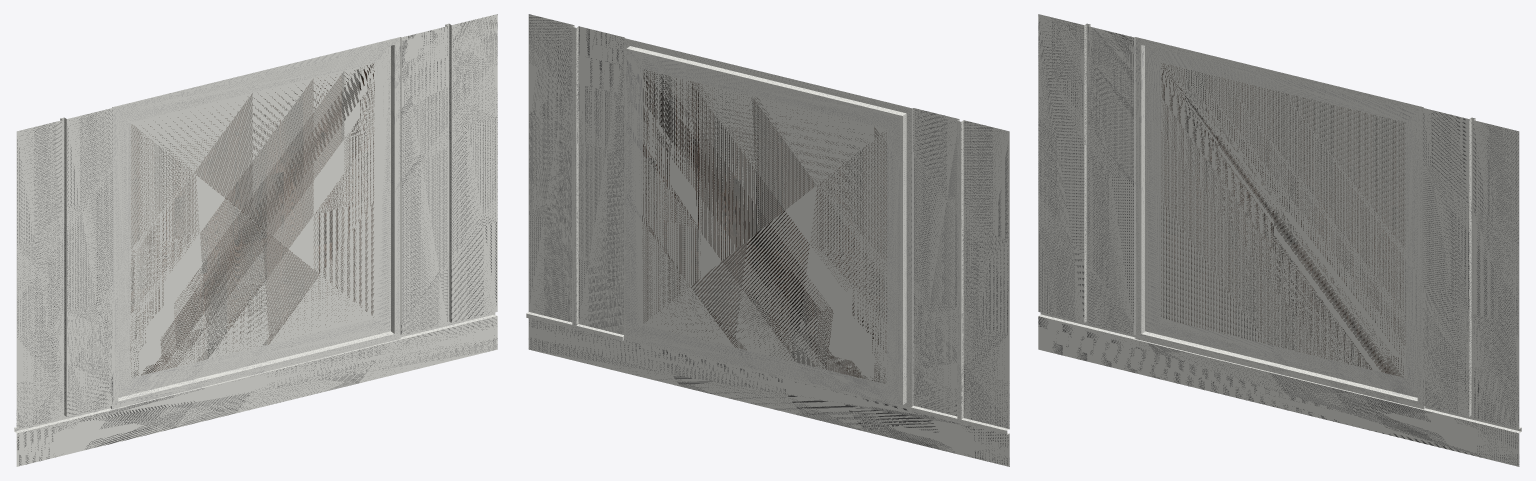
The model's file is wall2.glb.
3 views of the same model, side by side, from view 1: azimuth 30°, elevation 25°; view 2: azimuth 150°, elevation 25°; view 3: azimuth 330°, elevation 25° (orthographic).
Visible parts, largest first — view 1: SketchUp.007, SketchUp.008, SketchUp.002, SketchUp, SketchUp.004, SketchUp.005, SketchUp.006, SketchUp.001, SketchUp.003; view 2: SketchUp.007, SketchUp.002, SketchUp.008, SketchUp.005, SketchUp.006, SketchUp.004, SketchUp, SketchUp.001, SketchUp.003; view 3: SketchUp.007, SketchUp.008, SketchUp.002, SketchUp.005, SketchUp.006, SketchUp, SketchUp.004, SketchUp.001, SketchUp.003.
Part boxes in pixels (bbox=[...]): SketchUp.007: bbox=[130, 63, 374, 377]; SketchUp.008: bbox=[16, 316, 497, 466]; SketchUp.002: bbox=[118, 46, 390, 397]; SketchUp: bbox=[64, 108, 112, 416]; SketchUp.004: bbox=[449, 14, 497, 322]; SketchUp.005: bbox=[16, 118, 62, 428]; SketchUp.006: bbox=[401, 25, 447, 335]; SketchUp.001: bbox=[14, 23, 496, 433]; SketchUp.003: bbox=[118, 45, 394, 401]; SketchUp.007: bbox=[642, 69, 886, 384]; SketchUp.002: bbox=[626, 49, 902, 405]; SketchUp.008: bbox=[528, 318, 1009, 466]; SketchUp.005: bbox=[961, 120, 1009, 428]; SketchUp.006: bbox=[576, 26, 624, 334]; SketchUp.004: bbox=[528, 14, 574, 322]; SketchUp: bbox=[913, 108, 959, 416]; SketchUp.001: bbox=[526, 27, 1009, 434]; SketchUp.003: bbox=[627, 46, 906, 404]; SketchUp.007: bbox=[1161, 63, 1405, 377]; SketchUp.008: bbox=[1038, 316, 1519, 466]; SketchUp.002: bbox=[1145, 46, 1417, 397]; SketchUp.005: bbox=[1038, 14, 1086, 322]; SketchUp.006: bbox=[1423, 108, 1471, 416]; SketchUp: bbox=[1088, 25, 1134, 335]; SketchUp.004: bbox=[1473, 118, 1519, 428]; SketchUp.001: bbox=[1039, 23, 1521, 433]; SketchUp.003: bbox=[1141, 45, 1417, 401].
Bounding box in the file's own units: 4.57 × 3.05 × 0.073.
5 materials, 2 textured.
